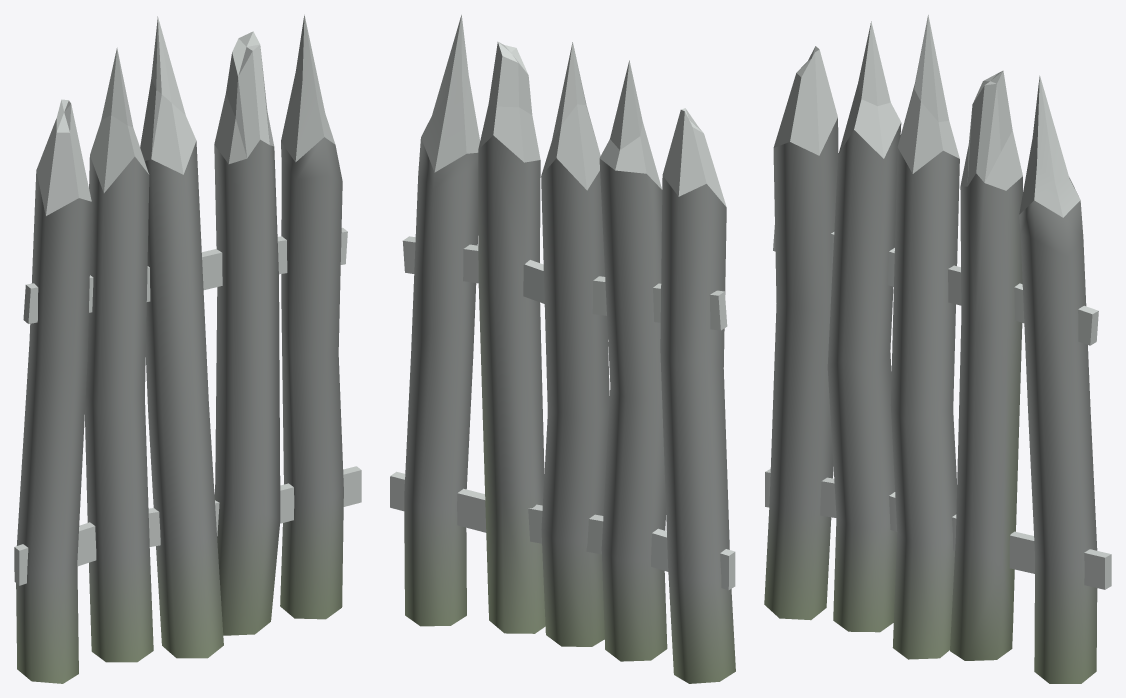
3 views of the same model, side by side, from view 1: azimuth 30°, elevation 25°; view 2: azimuth 150°, elevation 25°; view 3: azimuth 330°, elevation 25° (orthographic).
Visible parts, largest first — view 1: G:\FFXIV-MapTools\exports\d2f1\bg\ex1\02_dra_d2\fld\d2f1\bgp (×3); view 2: G:\FFXIV-MapTools\exports\d2f1\bg\ex1\02_dra_d2\fld\d2f1\bgp (×3); view 3: G:\FFXIV-MapTools\exports\d2f1\bg\ex1\02_dra_d2\fld\d2f1\bgp (×3).
Boxes of the visible parts, left/top/right/bottom form: G:\FFXIV-MapTools\exports\d2f1\bg\ex1\02_dra_d2\fld\d2f1\bgp (×3): left=14, top=14, right=361, bottom=683; G:\FFXIV-MapTools\exports\d2f1\bg\ex1\02_dra_d2\fld\d2f1\bgp (×3): left=390, top=15, right=735, bottom=683; G:\FFXIV-MapTools\exports\d2f1\bg\ex1\02_dra_d2\fld\d2f1\bgp (×3): left=764, top=15, right=1111, bottom=683.
Bounding box in the file's own units: 4.36 × 7.55 × 1.04.
